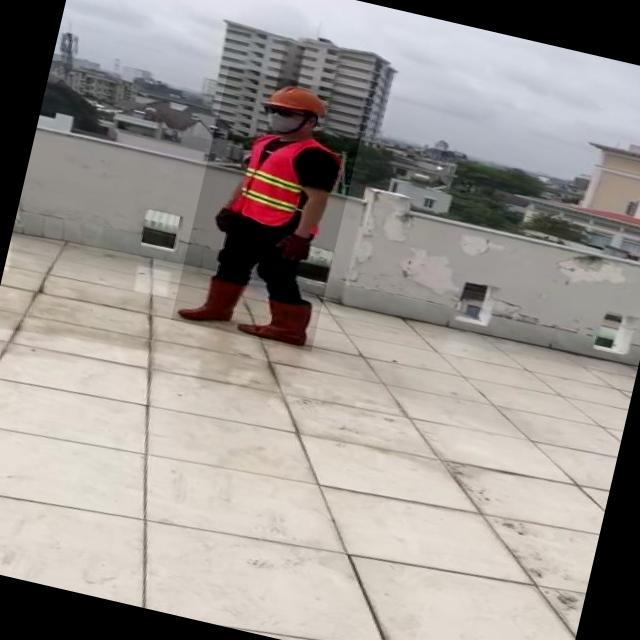Gloves: (271, 228, 317, 265)
Helmet: (263, 77, 333, 119)
Human: (171, 65, 370, 352)
Safety Boot: (235, 287, 315, 349), (177, 270, 243, 331)
Safety Vest: (230, 128, 323, 230)
